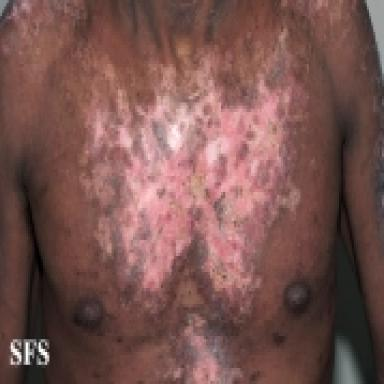Lupus-Erythematosus-Chronicus-Discoides: (71, 24, 311, 384), (280, 1, 383, 250), (0, 2, 89, 61)
